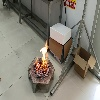fire: (34, 40, 49, 74)
